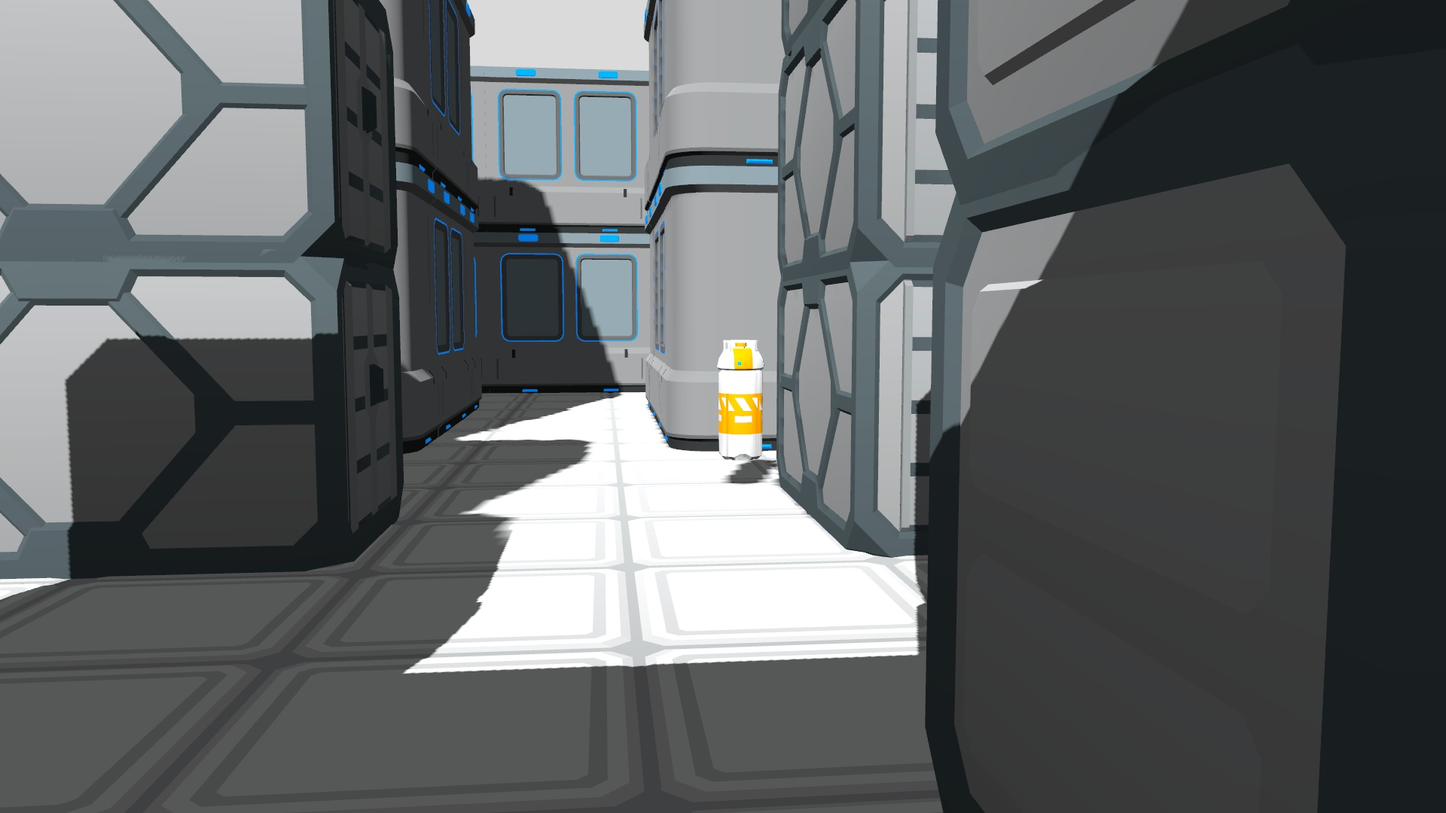yellow_barrel: (715, 333, 765, 462)
